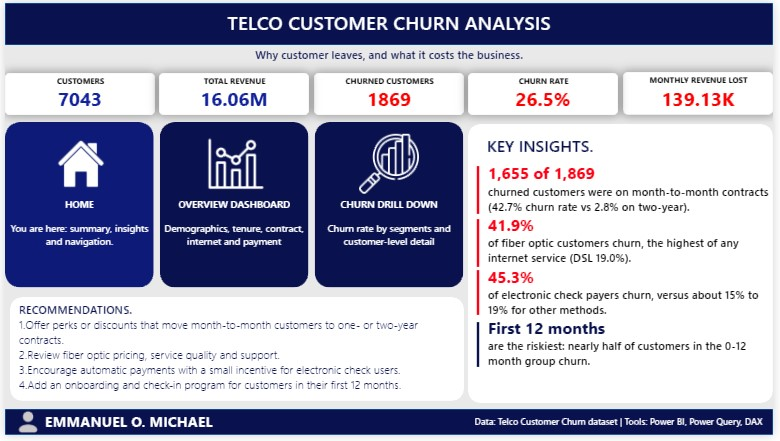

The dashboard page shown, as its layout file describes it:
{"tool":"powerbi","page":{"name":"HOME","canvas":[1280,720],"ordinal":0},"visuals":[{"type":"shape","box":[0,677.1,1280,42.9],"z":0},{"type":"shape","box":[0,0,1280,70],"z":1000},{"type":"textbox","box":[1.7,675,410,43.3],"z":2000},{"type":"pageNavigator","title":"NAVIGATION","box":[0,198.3,765,276.7],"z":6000},{"type":"image","box":[76.7,215,100,105],"z":7000},{"type":"textbox","box":[0,4.3,1280,60],"z":8000},{"type":"textbox","box":[0,68.6,1280,60],"z":9000},{"type":"card","title":"MONTHLY REVENUE LOST","fields":{"Values":["MEASURES (2).REVENUE LOST"]},"box":[1030,114.3,250,71.4],"z":10000},{"type":"card","title":"CUSTOMERS","fields":{"Values":["MEASURES (2).TOTAL_NUMBER_OF_CUSTOMERS"]},"box":[0,116.3,250,70],"z":11000},{"type":"card","title":"CHURNED CUSTOMERS","fields":{"Values":["MEASURES (2).Total_CHURNED_CUSTOMER"]},"box":[514.9,116.3,250,70.2],"z":12000},{"type":"card","title":"CHURN RATE","fields":{"Values":["MEASURES (2).CHURN RATE %"]},"box":[772.4,116.3,250,70.2],"z":13000},{"type":"card","title":"TOTAL REVENUE","fields":{"Values":["MEASURES (2).total revenue"]},"box":[257.3,116.3,250,70.2],"z":14000},{"type":"textbox","box":[0,360,248.3,58.3],"z":15000},{"type":"textbox","box":[515,360,250,58.3],"z":16000},{"type":"textbox","box":[256.7,360,250,75],"z":17000},{"type":"shape","box":[771.7,201.7,508.3,465],"z":18000},{"type":"shape","box":[8.3,490,756.7,173.3],"z":19000},{"type":"shape","box":[773.3,271.7,30,80],"z":20000},{"type":"shape","box":[773.3,531.7,30,75],"z":21000},{"type":"shape","box":[773.3,360,30,80],"z":22000},{"type":"shape","box":[773.3,445,30,75],"z":23000},{"type":"image","box":[335,215,100,105],"z":24000},{"type":"image","box":[590,215,100,105],"z":25000},{"type":"image","box":[0,676.7,76.7,43.3],"z":26000},{"type":"textbox","box":[18.3,493.3,726.7,170],"z":27000},{"type":"textbox","box":[800,260,480,370],"z":28000},{"type":"textbox","box":[798.3,215,188.3,46.7],"z":29000},{"type":"textbox","box":[765,681.7,515,33.3],"z":30000}]}

Visuals, with their boxes in screenshot pixels (x1, y1, x2, y2), scaled from the page's 1280x720 canvas onto the 780x441 screenshot:
shape: crop(0, 415, 779, 440)
shape: crop(0, 0, 779, 43)
textbox: crop(1, 413, 251, 440)
"NAVIGATION" pageNavigator: crop(0, 121, 466, 291)
image: crop(47, 132, 108, 196)
textbox: crop(0, 3, 779, 39)
textbox: crop(0, 42, 779, 79)
"MONTHLY REVENUE LOST" card: crop(628, 70, 779, 114)
"CUSTOMERS" card: crop(0, 71, 152, 114)
"CHURNED CUSTOMERS" card: crop(314, 71, 466, 114)
"CHURN RATE" card: crop(471, 71, 623, 114)
"TOTAL REVENUE" card: crop(157, 71, 309, 114)
textbox: crop(0, 221, 151, 256)
textbox: crop(314, 221, 466, 256)
textbox: crop(156, 221, 309, 266)
shape: crop(470, 124, 779, 408)
shape: crop(5, 300, 466, 406)
shape: crop(471, 166, 490, 215)
shape: crop(471, 326, 490, 372)
shape: crop(471, 221, 490, 270)
shape: crop(471, 273, 490, 318)
image: crop(204, 132, 265, 196)
image: crop(360, 132, 420, 196)
image: crop(0, 414, 47, 440)
textbox: crop(11, 302, 454, 406)
textbox: crop(488, 159, 779, 386)
textbox: crop(486, 132, 601, 160)
textbox: crop(466, 418, 779, 438)
